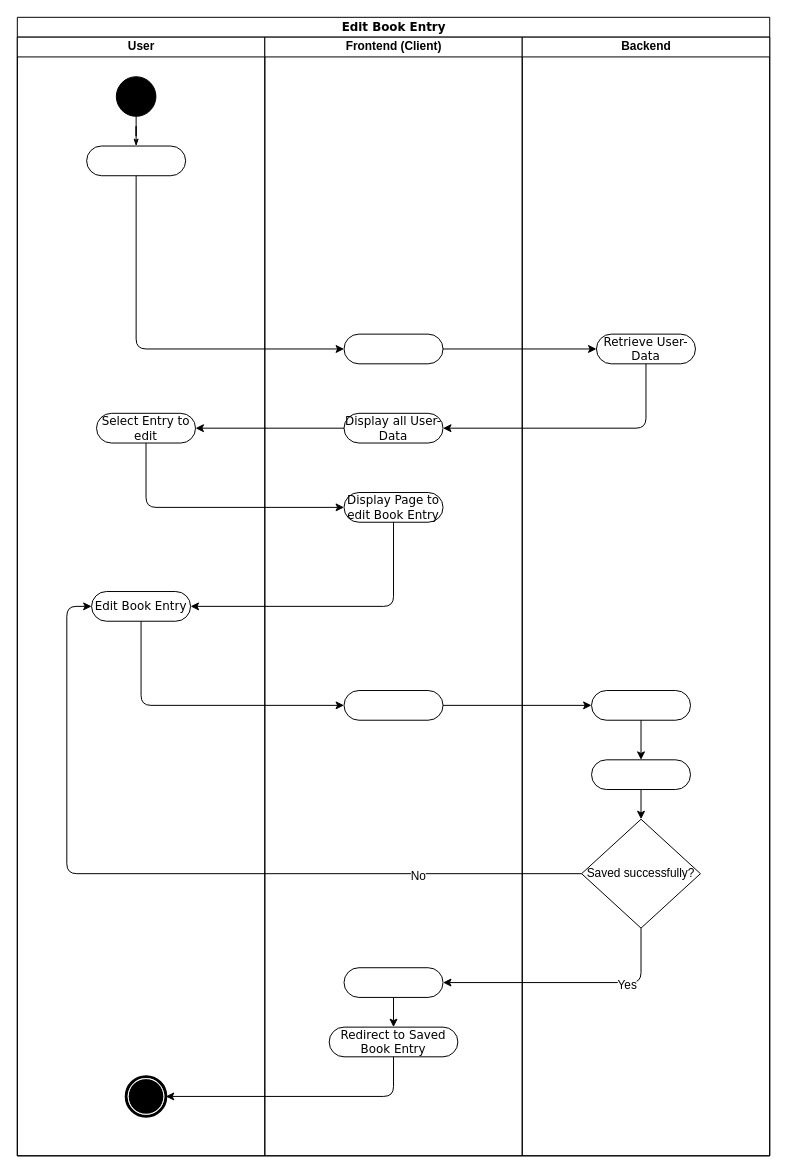
This 787x1173 diagram has some shape labels left out. Here are the shapes that lost their labels. From the top down, the centre of each, then its label:
At [136,160]: "Navigate to Profile".
At [393,348]: "Forwarding to Profile Page".
At [393,705]: "Save Entry".
At [641,705]: "Validate Data".
At [641,774]: "Save Book Entry".
At [393,982]: "Let User know".
